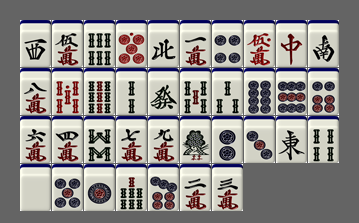0m: (244, 20, 275, 67)
0p: (116, 20, 147, 67)
0s: (52, 68, 83, 115)
1m: (180, 20, 211, 67)
1p: (84, 164, 115, 211)
1s: (180, 116, 211, 163)
1z: (276, 116, 307, 163)
2m: (180, 164, 211, 211)
2p: (212, 116, 243, 163)
2s: (116, 68, 147, 115)
2z: (308, 20, 339, 67)
3m: (212, 164, 243, 211)
3p: (244, 116, 275, 163)
3s: (212, 68, 243, 115)
3z: (20, 20, 51, 67)
4m: (52, 116, 83, 163)
4p: (212, 20, 243, 67)
4s: (308, 116, 339, 163)
4z: (148, 20, 179, 67)
5m: (52, 20, 83, 67)
5p: (52, 164, 83, 211)
5s: (180, 68, 211, 115)
5z: (20, 164, 51, 211)
6m: (20, 116, 51, 163)
6p: (308, 68, 339, 115)
6s: (84, 20, 115, 67)
6z: (148, 68, 179, 115)
7m: (116, 116, 147, 163)
7p: (148, 164, 179, 211)
7s: (116, 164, 147, 211)
7z: (276, 20, 307, 67)
8m: (20, 68, 51, 115)
8p: (244, 68, 275, 115)
8s: (84, 116, 115, 163)
9m: (148, 116, 179, 163)
9p: (276, 68, 307, 115)
9s: (84, 68, 115, 115)
